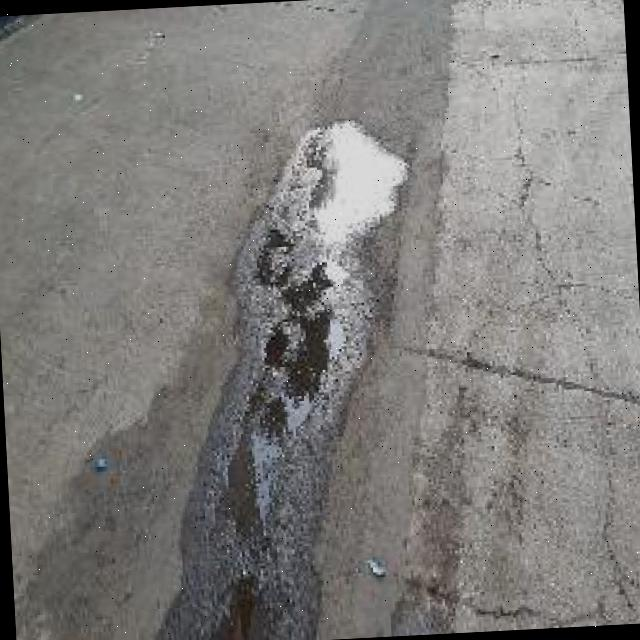waterlogging: (300, 116, 420, 248)
